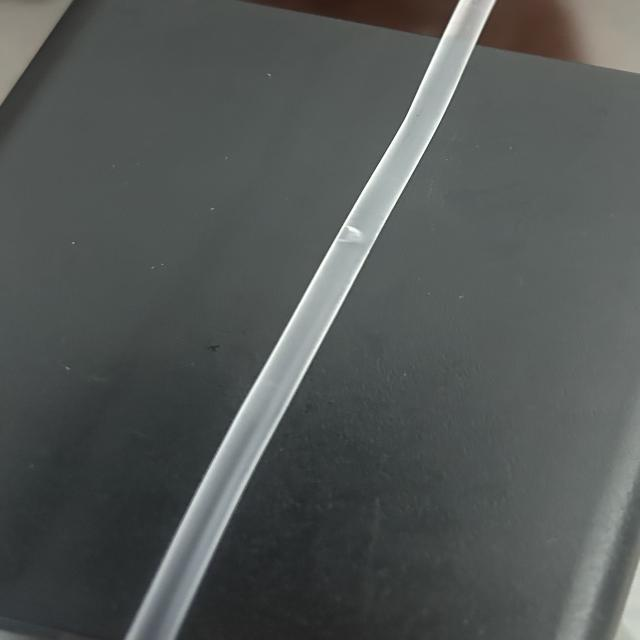bubble: (328, 218, 371, 254)
